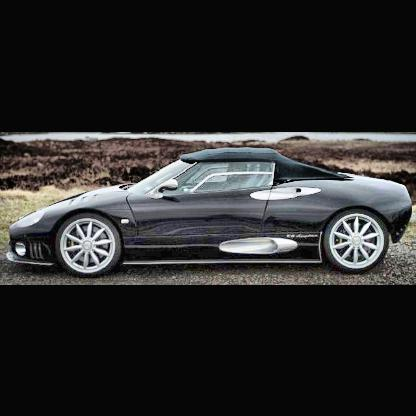Spyker C8 Convertible 2009: (2, 146, 416, 281)
